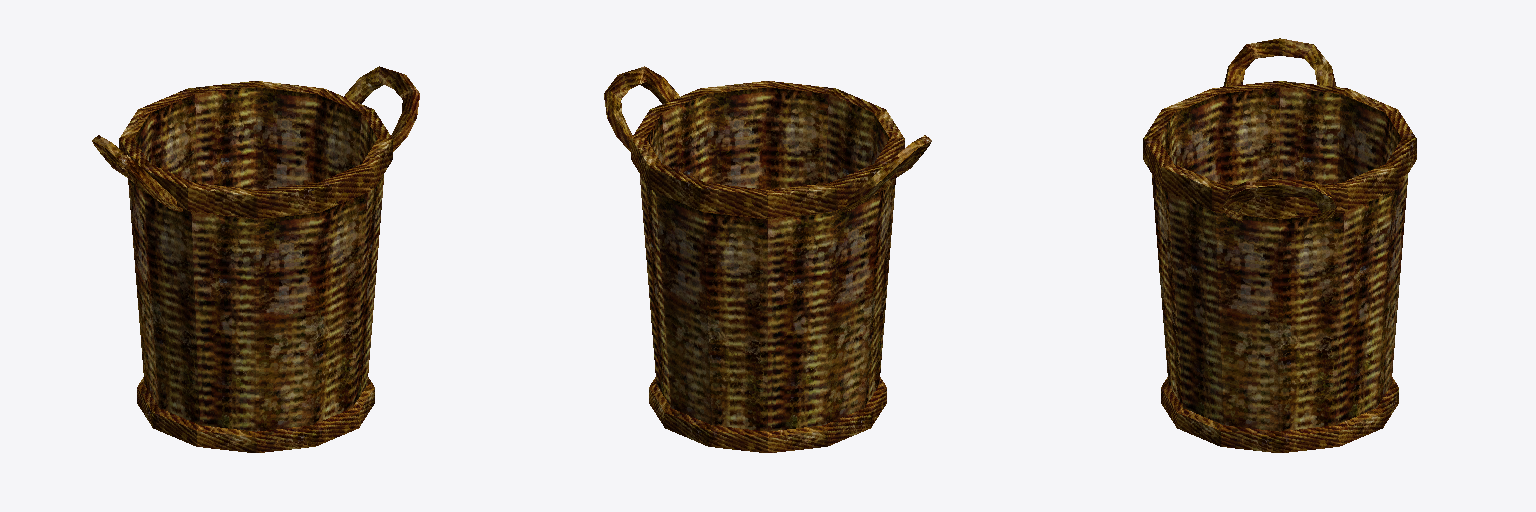
3 renders of one model, left to right at view 1: azimuth 30°, elevation 25°; view 2: azimuth 150°, elevation 25°; view 3: azimuth 270°, elevation 25°, orthographic.
Visible parts, largest first — view 1: mesh0; view 2: mesh0; view 3: mesh0.
Boxes of the visible parts, <box> form: mesh0: <box>92,66,419,452</box>; mesh0: <box>604,66,931,452</box>; mesh0: <box>1143,38,1416,452</box>.
Bounding box in the file's own units: 0.6374 × 0.5972 × 0.5017.
1 materials, 1 textured.